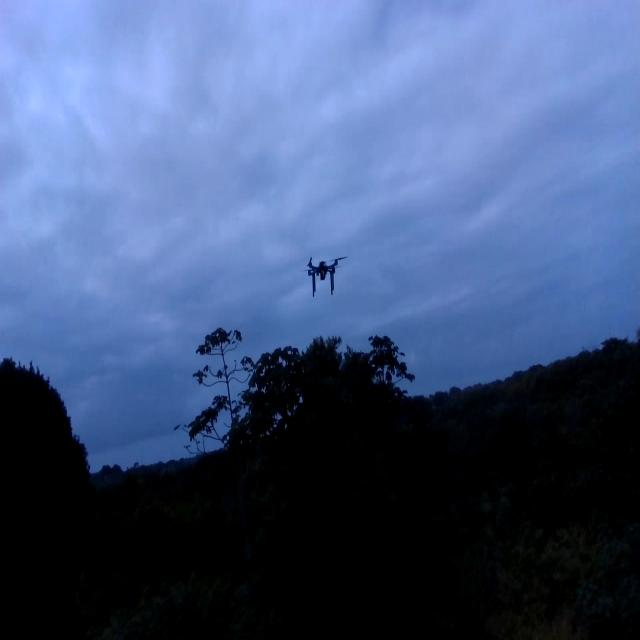-uav-: (300, 243, 348, 303)
